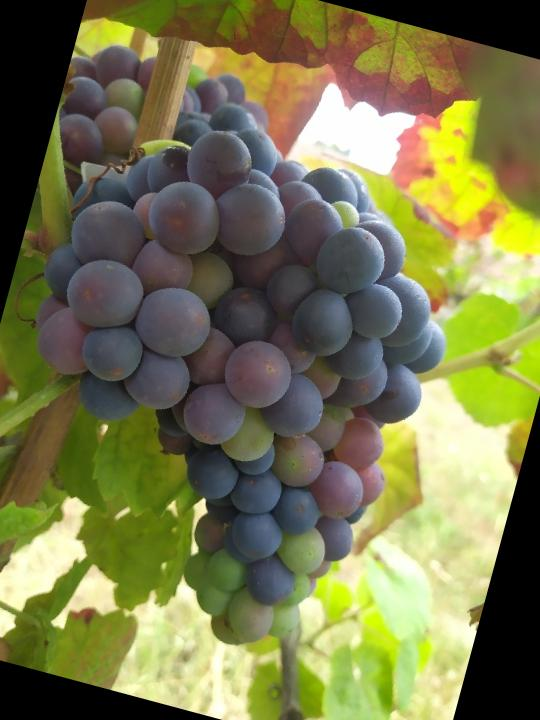grape: (0, 80, 493, 681)
